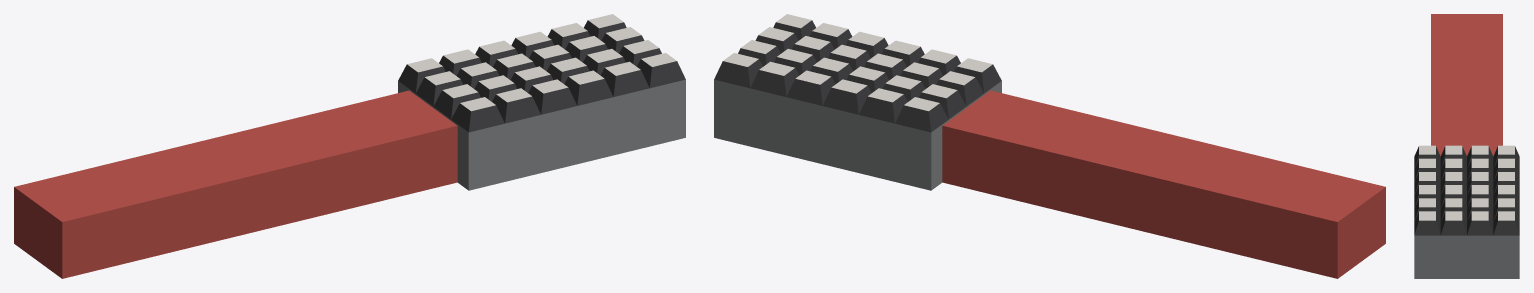
Rendered from hairbrush.glb.
3 renders of one model, left to right at view 1: azimuth 30°, elevation 25°; view 2: azimuth 150°, elevation 25°; view 3: azimuth 270°, elevation 25°, orthographic. The views are drawn at different scales.
Parts seen in each view (by area): view 1: hairbrush; view 2: hairbrush; view 3: hairbrush.
Boxes of the visible parts, x1,y1,x2,y2 form: hairbrush: [14, 14, 685, 278]; hairbrush: [714, 14, 1385, 278]; hairbrush: [1414, 14, 1519, 278].
Size of the model in its own units: 0.22 by 0.026 by 0.044.
